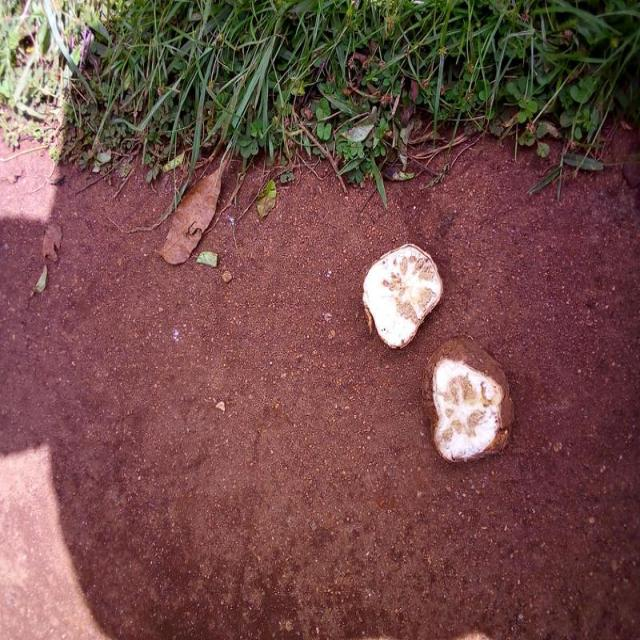cassava leaf: (422, 334, 516, 463), (362, 242, 444, 349)
